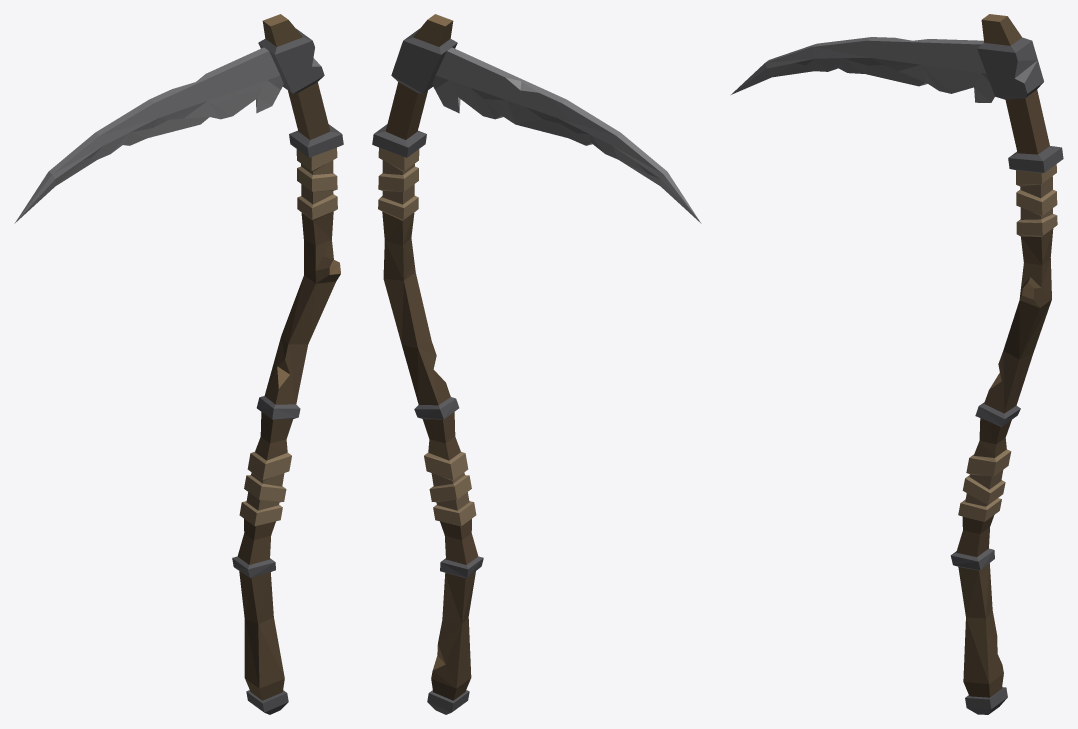
Rendered from SM_Wep_Scythe_01.gltf.
3 renders of one model, left to right at view 1: azimuth 30°, elevation 25°; view 2: azimuth 150°, elevation 25°; view 3: azimuth 330°, elevation 25°, orthographic.
Visible parts, largest first — view 1: SM_Wep_Scythe_01; view 2: SM_Wep_Scythe_01; view 3: SM_Wep_Scythe_01.
Boxes of the visible parts, bbox=[...] form: SM_Wep_Scythe_01: bbox=[14, 14, 343, 714]; SM_Wep_Scythe_01: bbox=[372, 14, 701, 714]; SM_Wep_Scythe_01: bbox=[731, 14, 1063, 714].
Bounding box in the file's own units: 0.9216 × 1.89 × 0.1136.
Materials: 1 (1 with a texture image).
